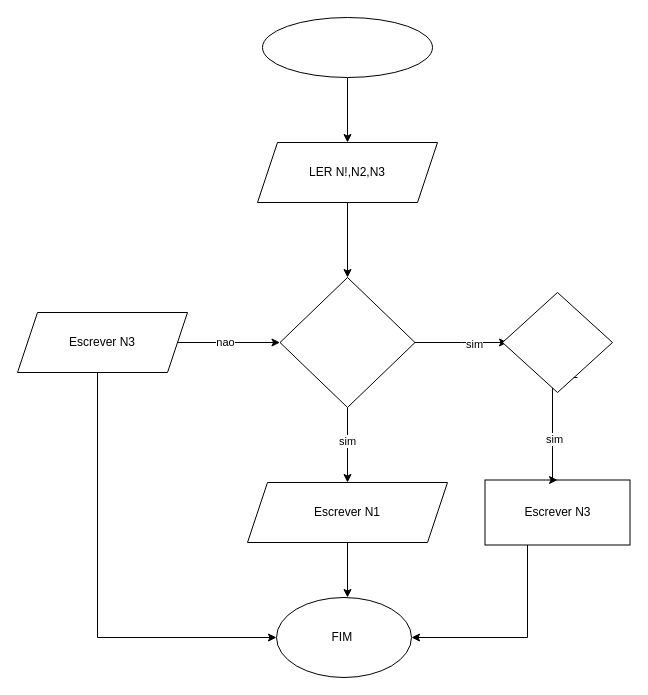
Some shapes in this 648 by 695 pixel diagram are drawn without their labels. The centre of each missing label's shape, as x and y in pixels:
Inicio: the point at 347,47
N1 N2>N3: the point at 347,342
N2<n3: the point at 557,342
